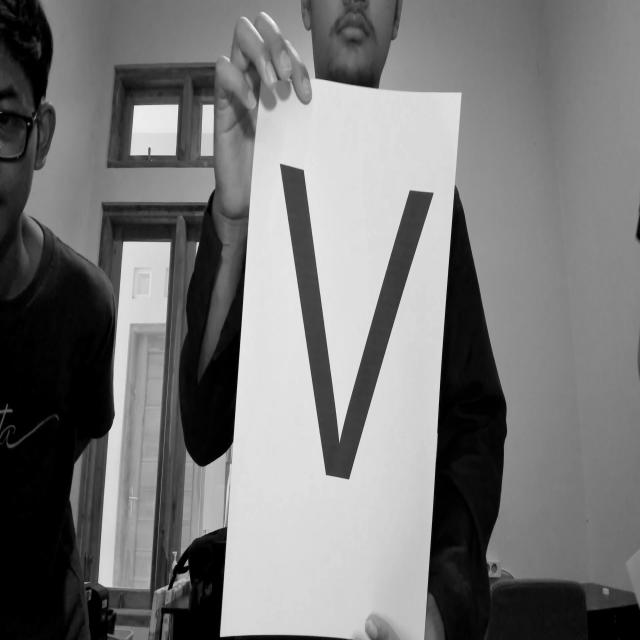v: (264, 144, 456, 480)
